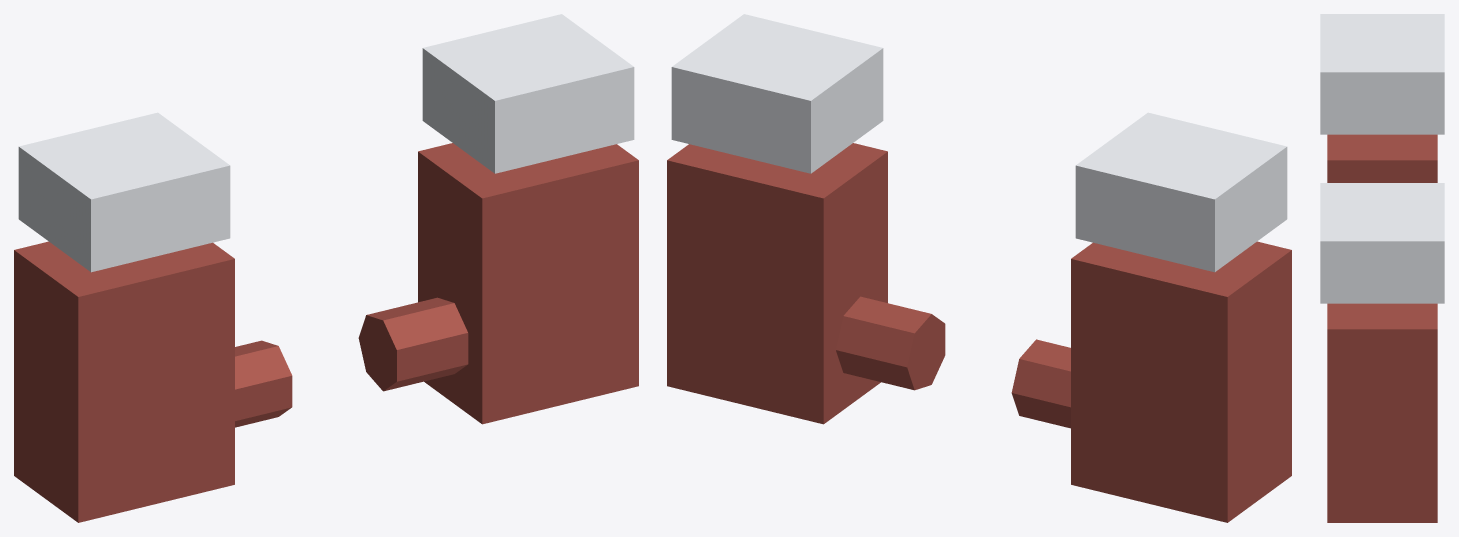
File: mitten_pair.fbx
3 renders of one model, left to right at view 1: azimuth 30°, elevation 25°; view 2: azimuth 150°, elevation 25°; view 3: azimuth 270°, elevation 25°, orthographic. The views are drawn at different scales.
Parts seen in each view (by area): view 1: mitten_pair; view 2: mitten_pair; view 3: mitten_pair.
Boxes of the visible parts, x1=… form: mitten_pair: x1=14, y1=14, x2=638, y2=522; mitten_pair: x1=667, y1=14, x2=1291, y2=522; mitten_pair: x1=1320, y1=14, x2=1444, y2=522.
Bounding box in the file's own units: 170 × 93.98 × 38.01.
